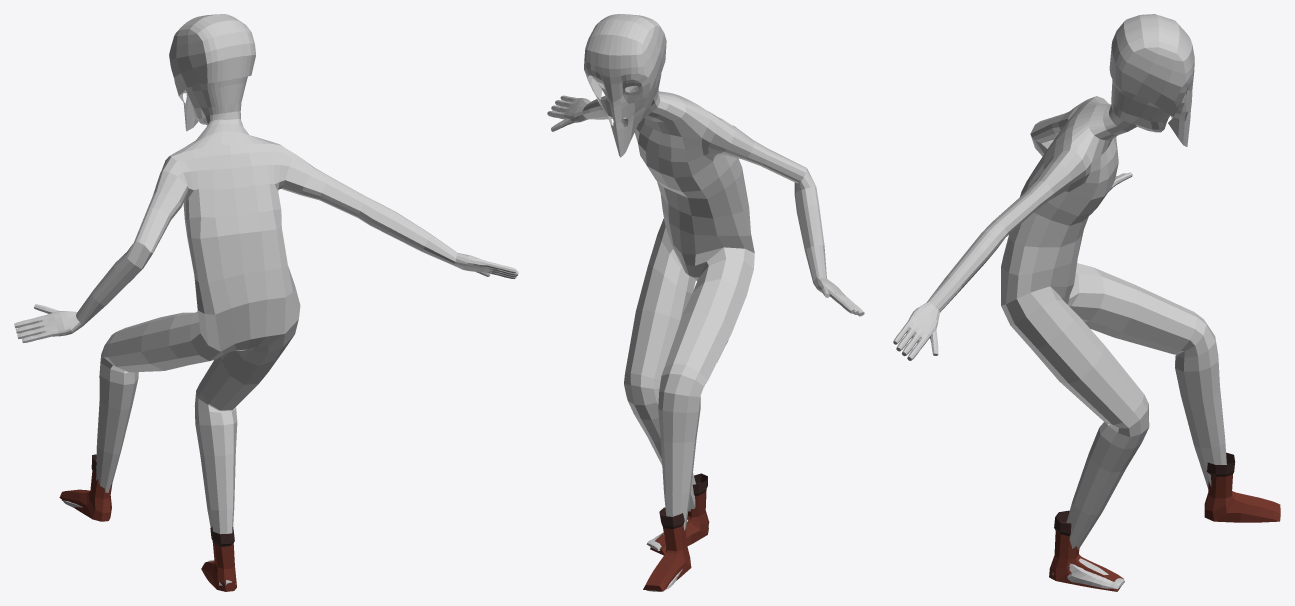
File: saltoadelante_000129.obj
3 views of the same model, side by side, from view 1: azimuth 30°, elevation 25°; view 2: azimuth 150°, elevation 25°; view 3: azimuth 270°, elevation 25° (orthographic). The views are drawn at different scales.
Parts seen in each view (by area): view 1: Plane.002_Plane.001, Plane.003, Plane.004; view 2: Plane.002_Plane.001, Plane.004, Plane.003; view 3: Plane.002_Plane.001, Plane.004, Plane.003.
Part boxes in pixels (box(x1,y1,x2,y2)): Plane.002_Plane.001: box(14, 14, 518, 585); Plane.003: box(201, 526, 236, 591); Plane.004: box(59, 454, 112, 521); Plane.002_Plane.001: box(547, 14, 864, 591); Plane.004: box(643, 507, 691, 591); Plane.003: box(650, 473, 709, 555); Plane.002_Plane.001: box(893, 14, 1226, 589); Plane.004: box(1204, 452, 1280, 522); Plane.003: box(1049, 510, 1123, 591).
Bounding box in the file's own units: 4.96 × 6.27 × 3.82.
